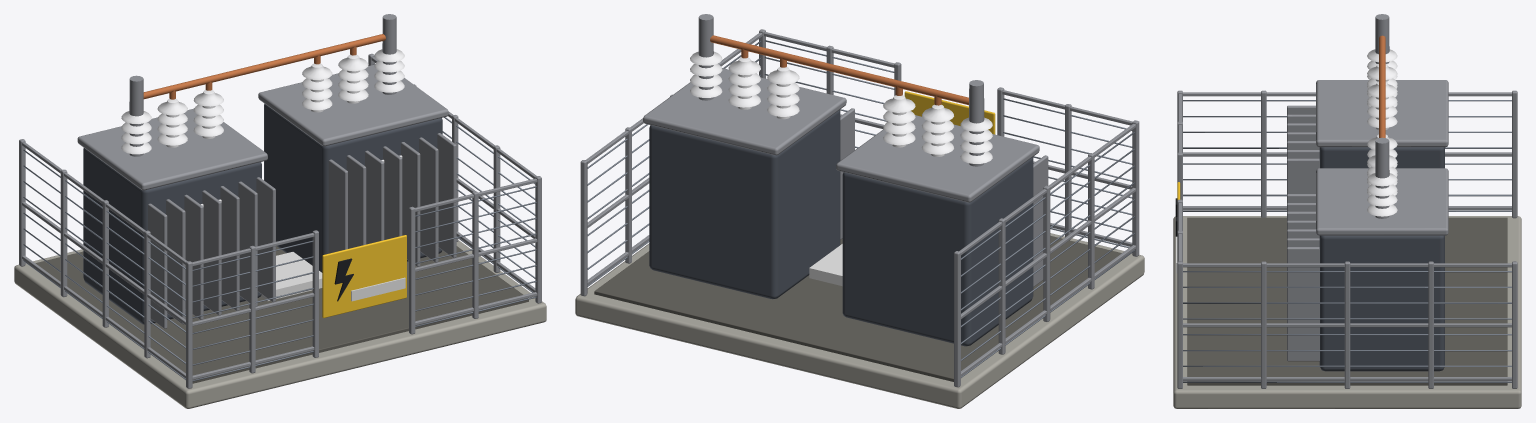
The model's file is Substation.fbx.
3 views of the same model, side by side, from view 1: azimuth 30°, elevation 25°; view 2: azimuth 150°, elevation 25°; view 3: azimuth 270°, elevation 25° (orthographic). The views are drawn at different scales.
Visible parts, largest first — view 1: Body__Grey, Body__MetalDark, Body__StoneDark, Body__Concrete, Body__Steel, Body__White, Body__Yellow, Body__Copper, Origin__Pivot, Body__Black!1; view 2: Body__MetalDark, Body__Grey, Body__StoneDark, Body__Concrete, Body__White, Body__Steel, Body__Copper, Body__Yellow, Origin__Pivot; view 3: Body__Grey, Body__StoneDark, Body__MetalDark, Body__Concrete, Body__Steel, Body__White, Body__Copper.
Boxes of the visible parts, <box> form: Body__Grey: <box>19,14,541,388</box>; Body__MetalDark: <box>83,103,442,324</box>; Body__StoneDark: <box>35,246,528,383</box>; Body__Concrete: <box>14,240,546,408</box>; Body__Steel: <box>23,64,536,381</box>; Body__White: <box>121,49,404,206</box>; Body__Yellow: <box>322,235,406,318</box>; Body__Copper: <box>143,34,385,99</box>; Origin__Pivot: <box>261,252,322,300</box>; Body__Black!1: <box>351,277,405,301</box>; Body__MetalDark: <box>649,110,1033,346</box>; Body__Grey: <box>580,14,1139,387</box>; Body__StoneDark: <box>594,235,1121,381</box>; Body__Concrete: <box>575,233,1144,408</box>; Body__White: <box>690,51,992,163</box>; Body__Steel: <box>587,40,1134,377</box>; Body__Copper: <box>710,35,968,105</box>; Body__Yellow: <box>904,91,995,134</box>; Origin__Pivot: <box>809,244,842,286</box>; Body__Grey: <box>1177,14,1517,388</box>; Body__StoneDark: <box>1187,217,1507,385</box>; Body__MetalDark: <box>1319,147,1444,371</box>; Body__Concrete: <box>1173,216,1521,408</box>; Body__Steel: <box>1183,100,1511,382</box>; Body__White: <box>1367,49,1397,216</box>; Body__Copper: <box>1379,35,1385,137</box>.
Bounding box in the file's own units: 6 × 4.35 × 5.
